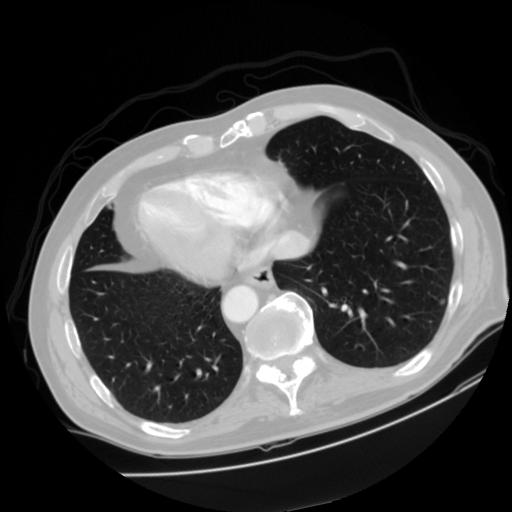nodule: (439, 295, 452, 308)
